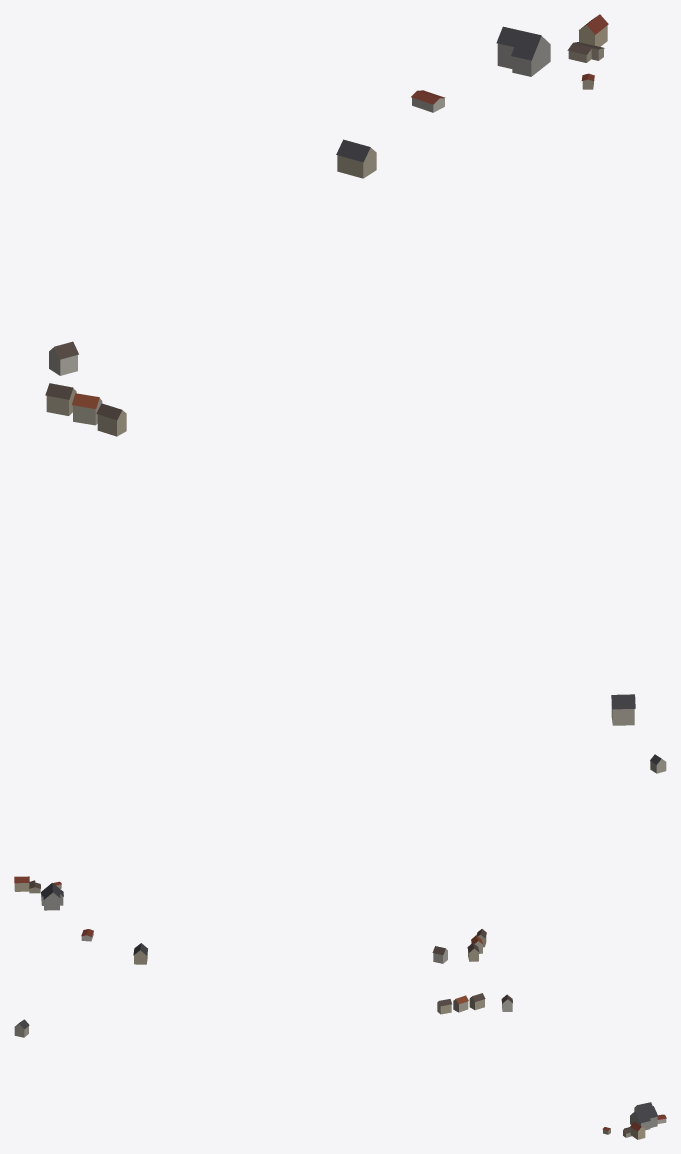
3 views of the same model, one above another, from view 1: azimuth 30°, elevation 25°; view 2: azimuth 150°, elevation 25°; view 3: azimuth 270°, elevation 25° (orthographic). The views are drawn at different scales.
Visible parts, largest first — view 1: buildings; view 2: buildings; view 3: buildings.
Boxes of the visible parts, box(x1,y1,x2,y2) form: buildings: box(45, 14, 635, 725); buildings: box(14, 754, 666, 964); buildings: box(14, 993, 666, 1139).
Bounding box in the file's own units: 262 × 37.24 × 411.
